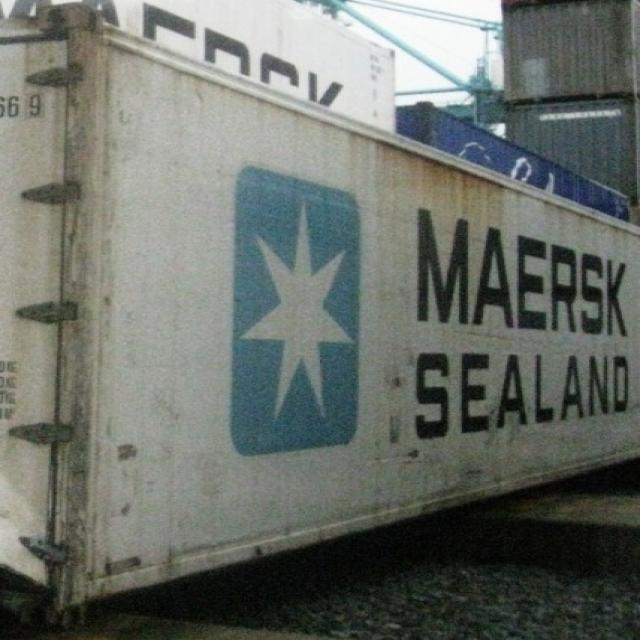dent: (1, 475, 50, 626)
